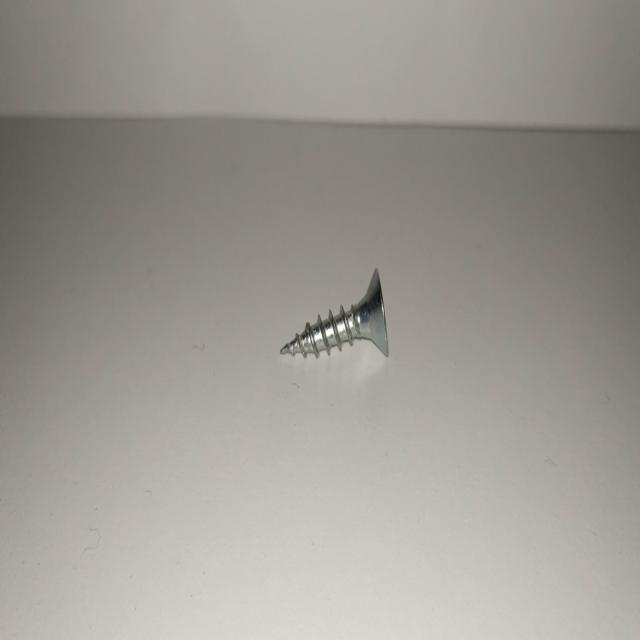Screw: (280, 268, 389, 357)
